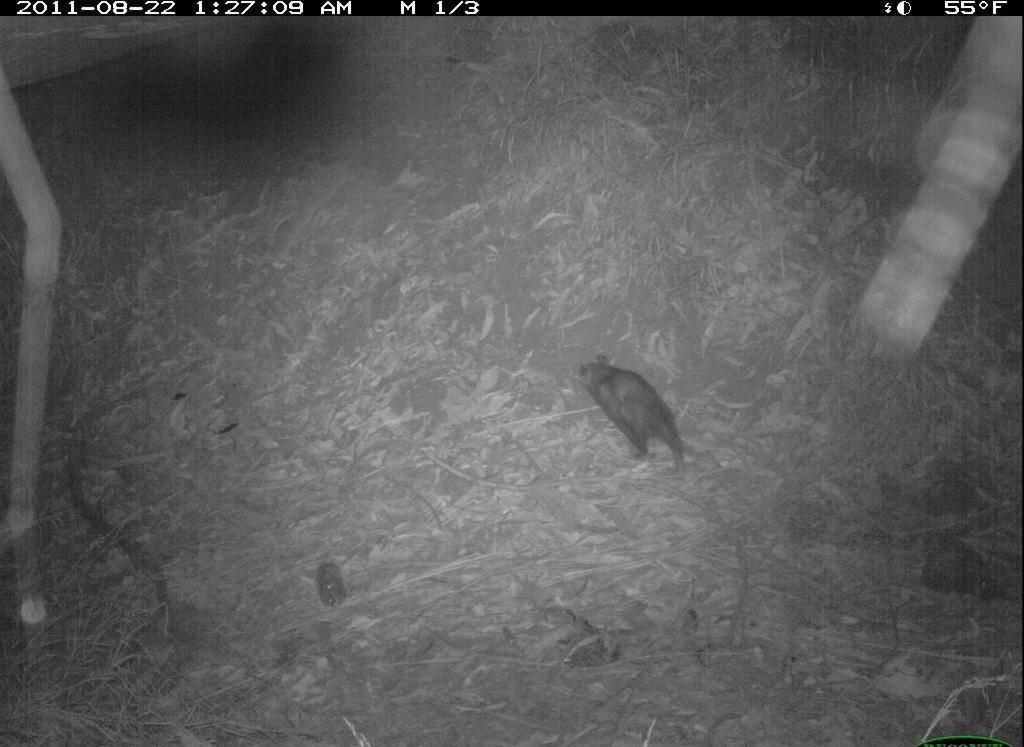opossum: (566, 347, 698, 496)
